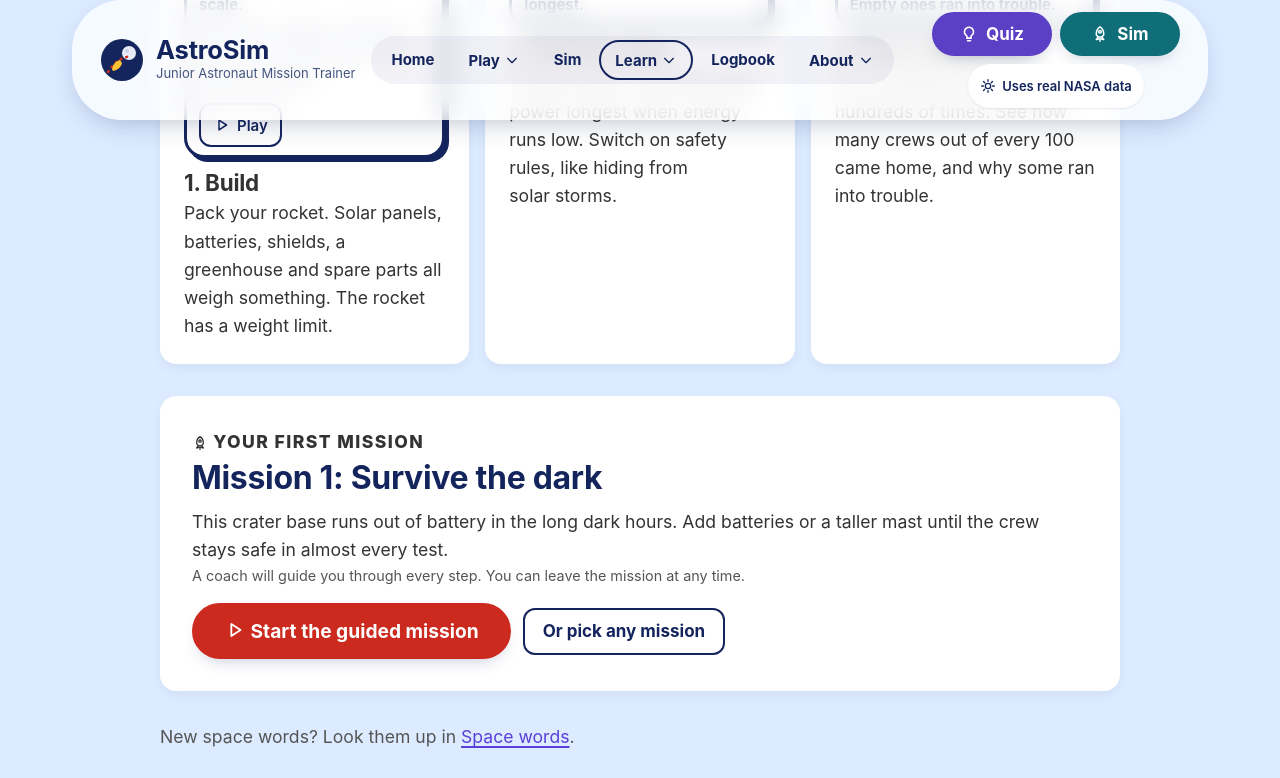
Test: How to Play › starts the guided first mission on the Build step with a coach tip
(page scrolled)
Click the button "Start the guided mission": [351, 631] box [192,603,511,659]
(page scrolled)
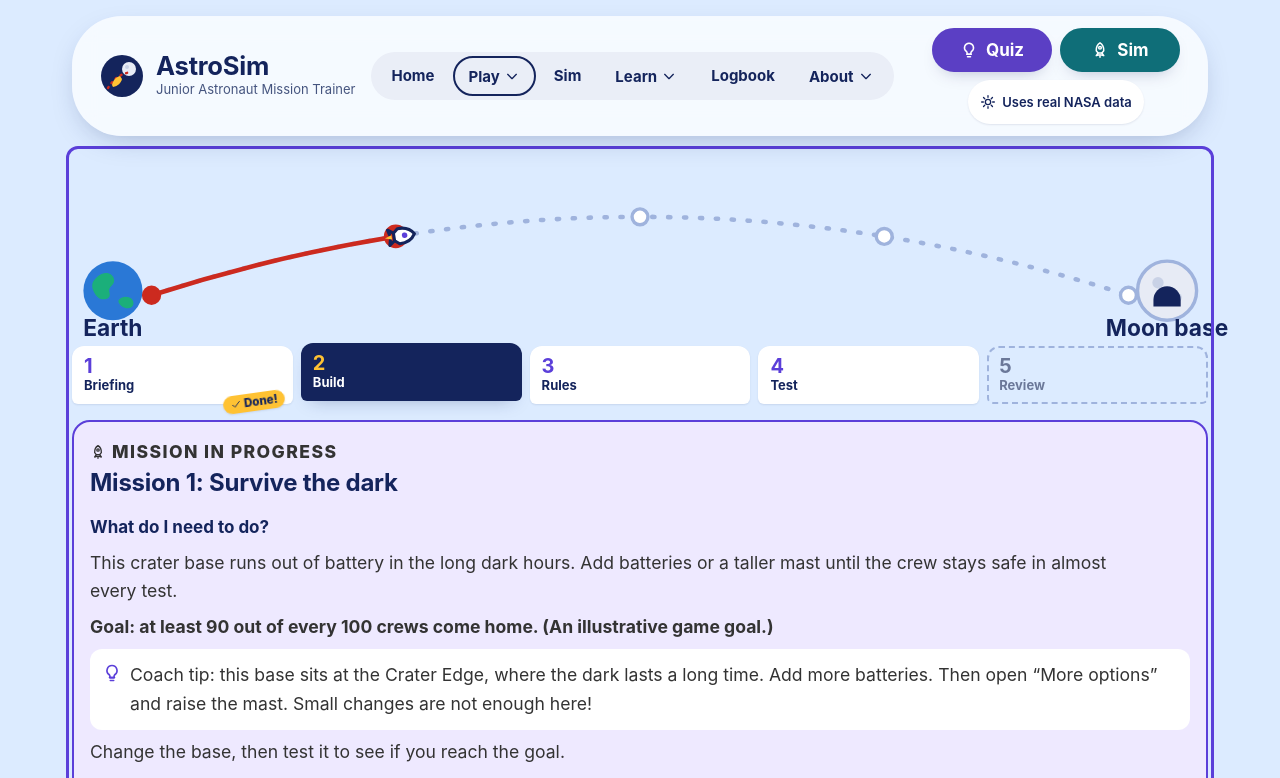
Expected: the heading "Mission 1: Survive the dark" is shown, [90,468,398,497]
Now the text "Coach tip: this base sits at the Crater Edge, where the dark lasts a long time. Add more batteries. Then open “More opti" is shown, box [130,664,1158,714]
